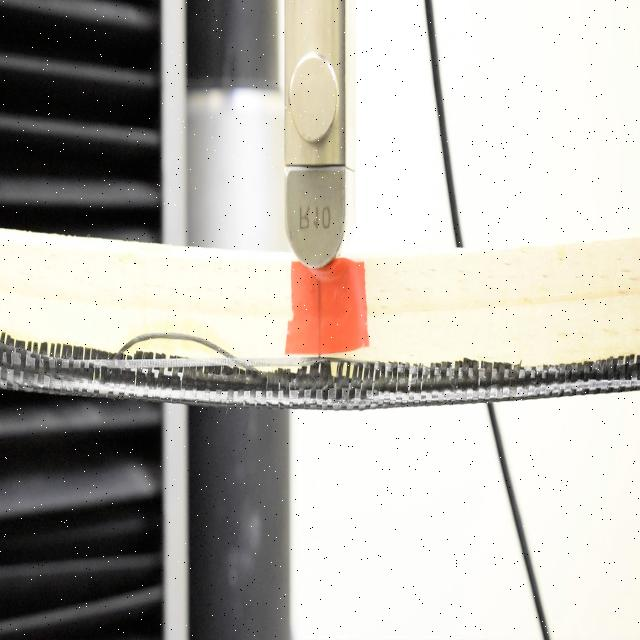wood: (0, 230, 640, 407)
